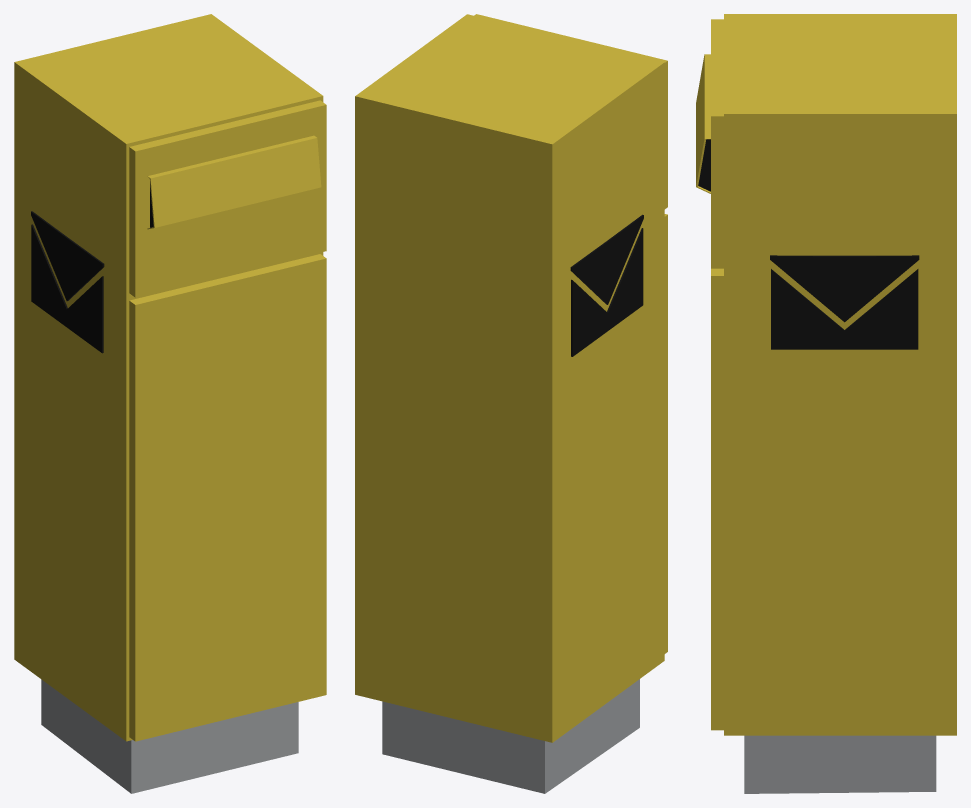
File: SM_mailbox.fbx
3 views of the same model, side by side, from view 1: azimuth 30°, elevation 25°; view 2: azimuth 150°, elevation 25°; view 3: azimuth 270°, elevation 25° (orthographic). The views are drawn at different scales.
Parts seen in each view (by area): view 1: Box043; view 2: Box043; view 3: Box043.
Boxes of the visible parts, <box> form: Box043: <box>14,14,326,793</box>; Box043: <box>355,14,667,793</box>; Box043: <box>696,14,956,793</box>.
Bounding box in the file's own units: 16.95 × 18.37 × 53.42.
